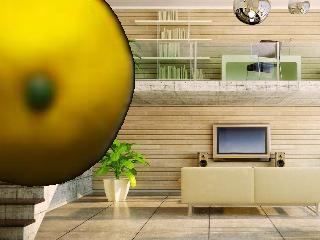lemon: (0, 2, 135, 195)
